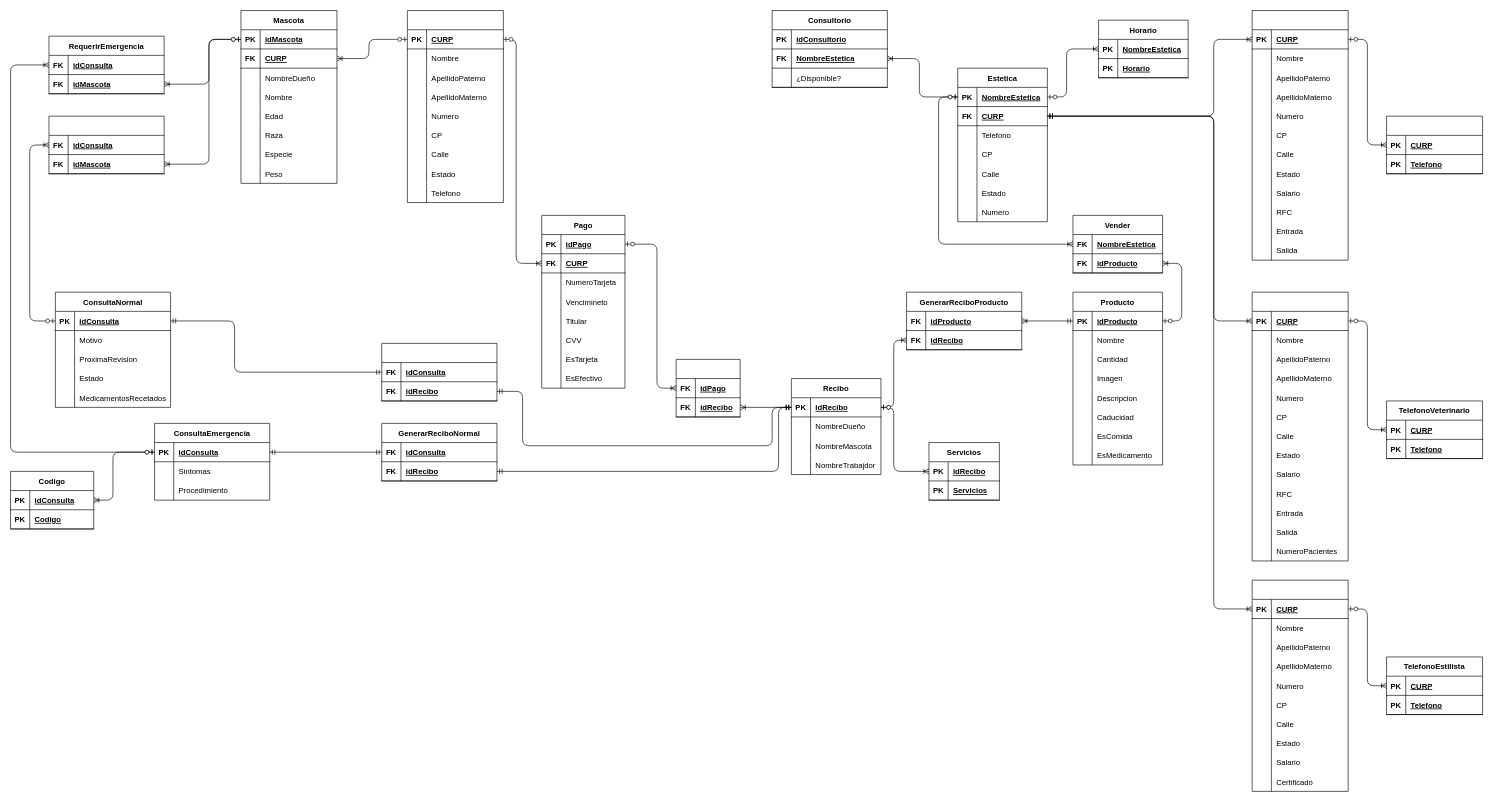
The diagram is 1493 pixels wide and 802 high, and some of its shapes have lost their labels. Each missing label, with the box of its shape:
Cliente: (407, 10, 503, 203)
Estilista: (1252, 580, 1348, 791)
GenerarReciboEmergencia: (381, 343, 497, 401)
Pagar: (676, 359, 740, 417)
RequerirNormal: (48, 116, 164, 174)
Supervisor: (1252, 10, 1348, 260)
TelefonoSupervisor: (1386, 116, 1483, 174)
Veterinario: (1252, 292, 1348, 561)
